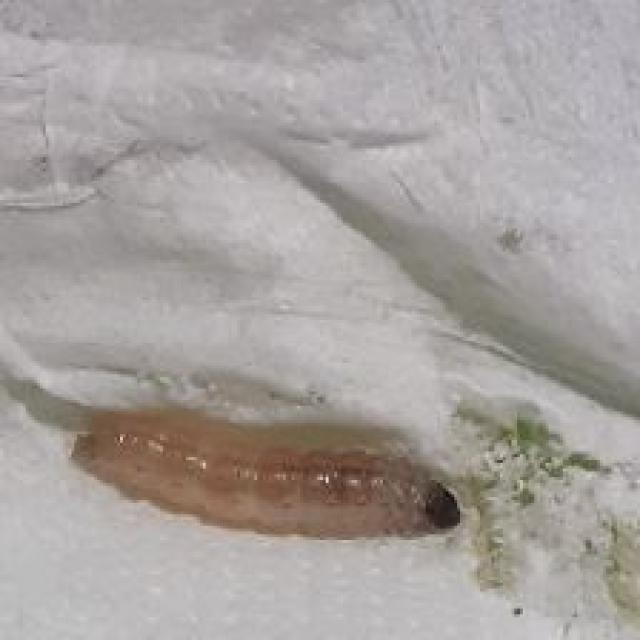white mucus: (67, 413, 459, 561)
